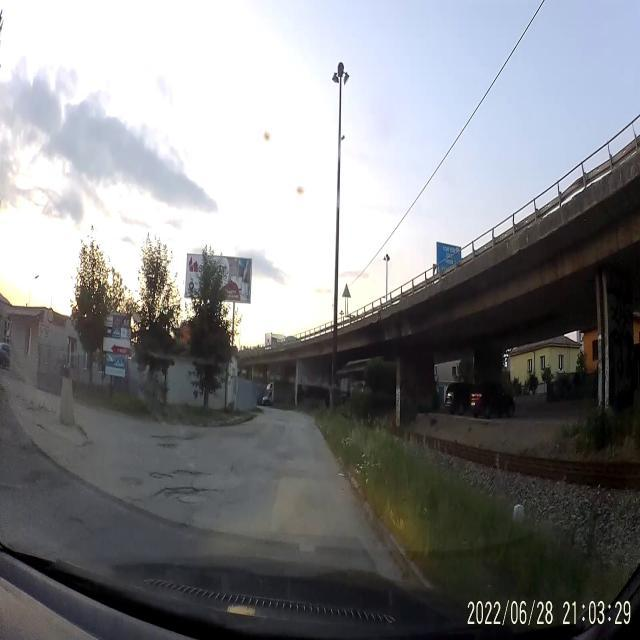Manhole: (115, 473, 147, 487), (179, 492, 204, 507)
Pothole: (156, 486, 206, 499), (173, 468, 204, 480), (150, 470, 172, 482)
